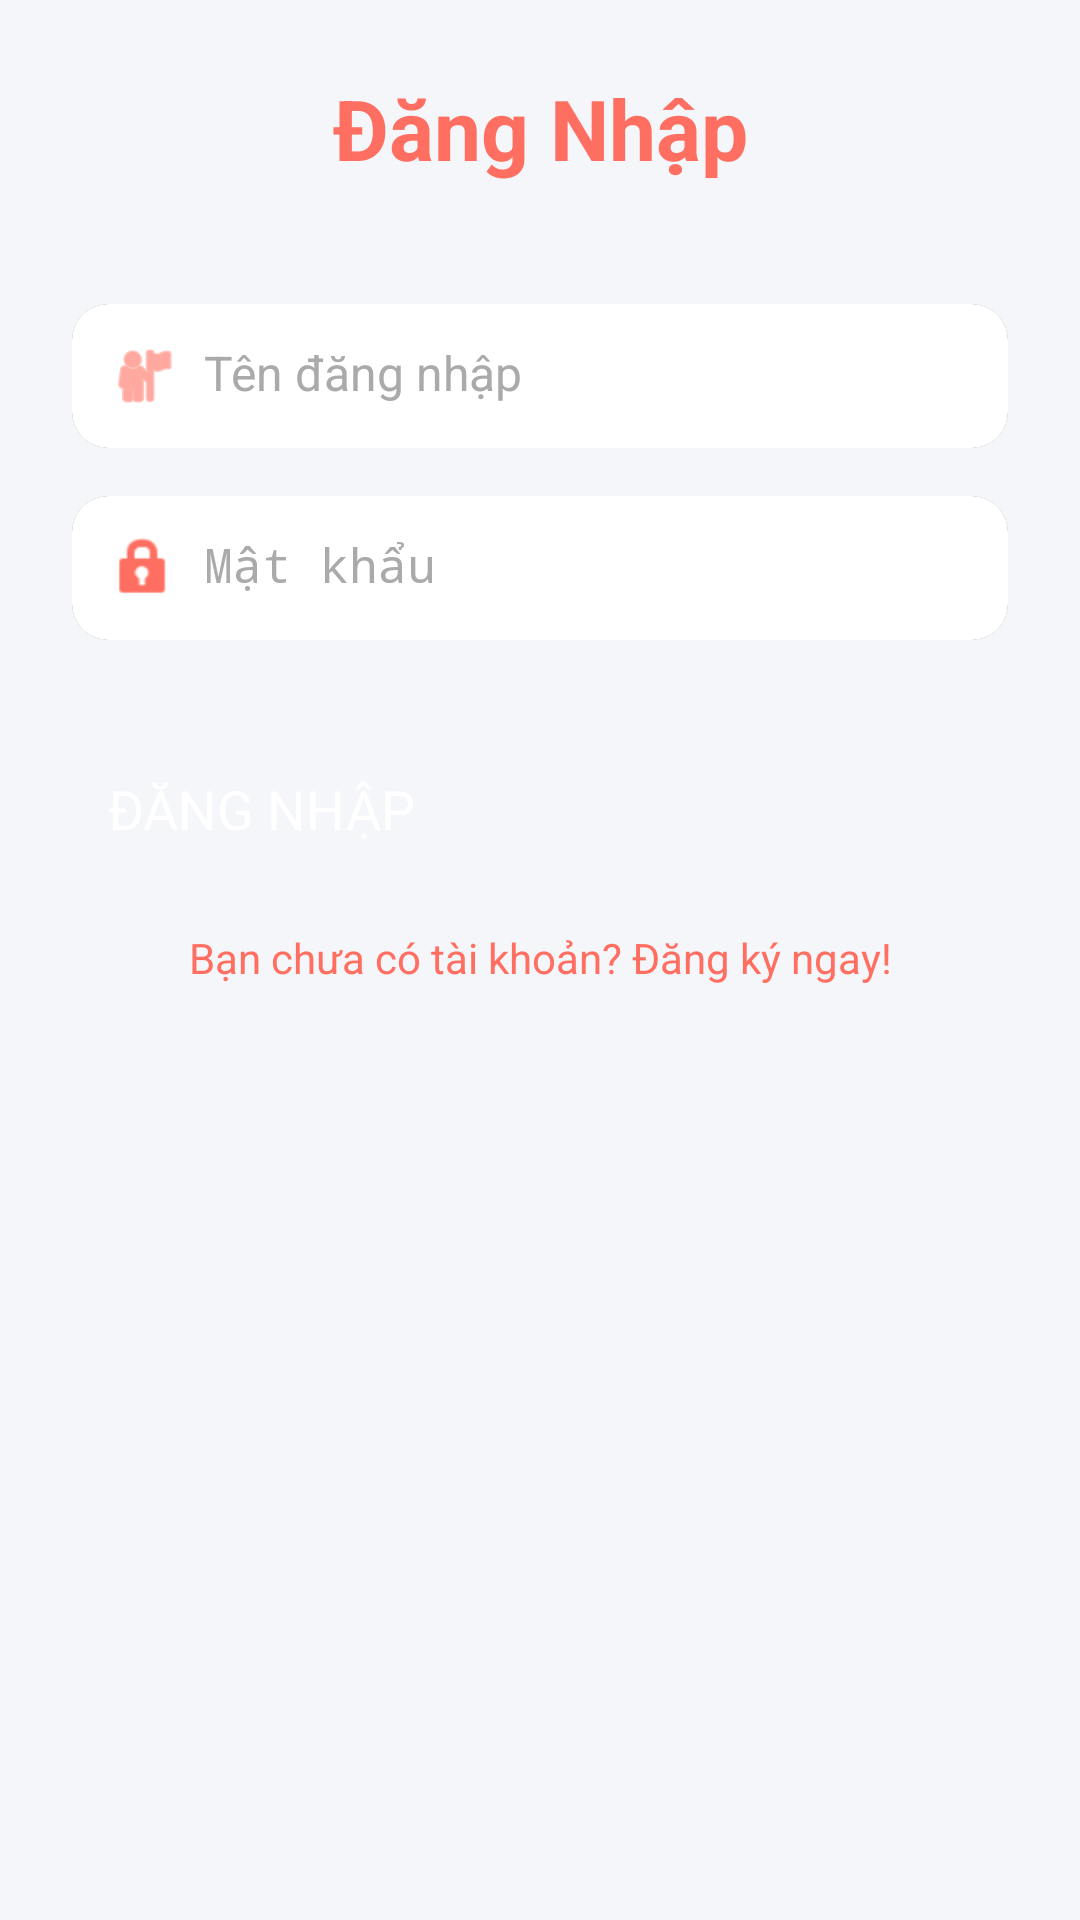

Named icons in this screenshot (1080*1920) and their bounding boxes, [x1, y1, x2, y2]:
lock idle: [119, 538, 166, 593]
